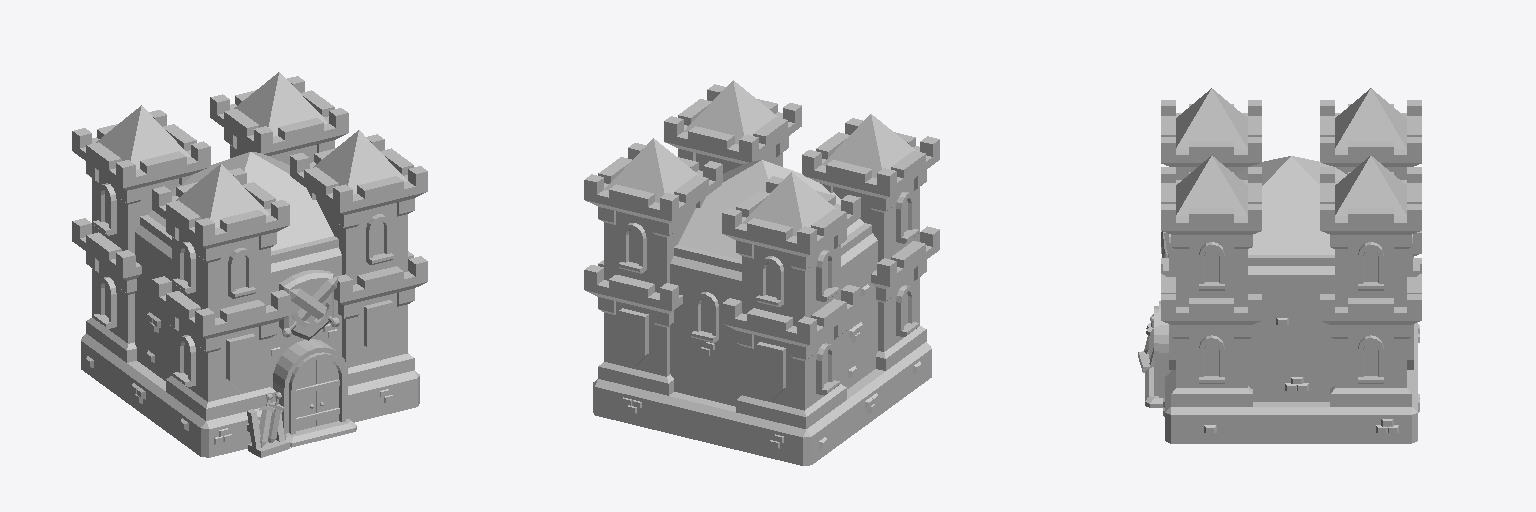
Rendered from building_barracks_red.obj.
The picture shows the model from 3 angles: view 1: azimuth 30°, elevation 25°; view 2: azimuth 150°, elevation 25°; view 3: azimuth 270°, elevation 25°; orthographic projection.
Parts seen in each view (by area): view 1: building_barracks_red; view 2: building_barracks_red; view 3: building_barracks_red.
Part boxes in pixels (x1,y1,x2,y2): building_barracks_red: (72,72,427,457); building_barracks_red: (584,80,939,465); building_barracks_red: (1138,88,1421,443).
Bounding box in the file's own units: 1.44 × 1.64 × 1.57.